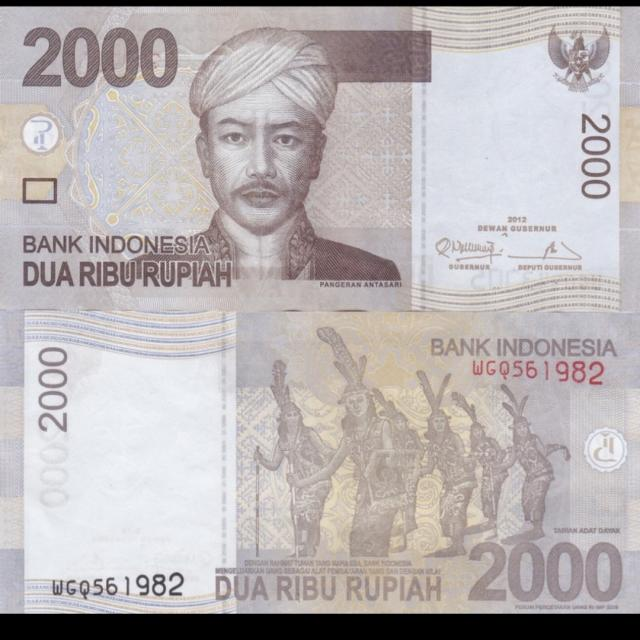dua ribu rupiah: (1, 7, 640, 312), (1, 312, 640, 616)
